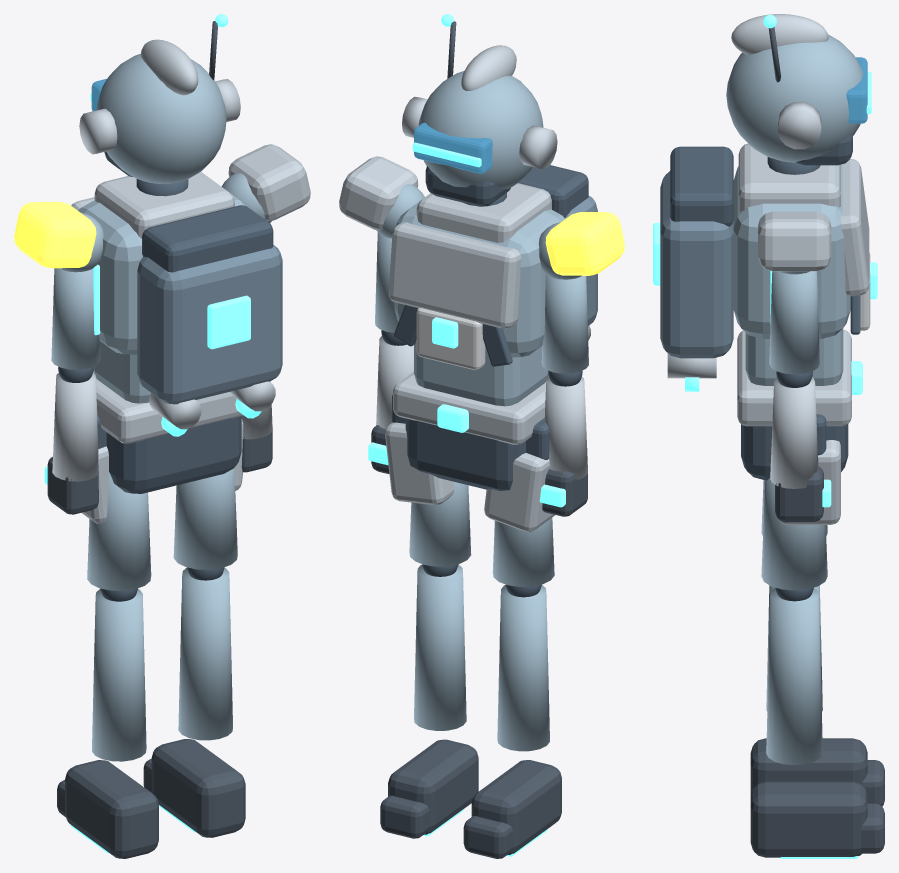
The model's file is protagonist_blender.glb.
The picture shows the model from 3 angles, left to right: view 1: azimuth 30°, elevation 25°; view 2: azimuth 150°, elevation 25°; view 3: azimuth 270°, elevation 25°; orthographic projection. The views are drawn at different scales.
Parts seen in each view (by area): view 1: Backpack, Helmet, LeftShin, RightShin, RightBoot, LeftBoot, Hips, BackpackLid, LeftLeg, RightLeg, Torso, Collar (+19 smaller); view 2: ChestPlate, Helmet, LeftShin, RightShin, Hips, LeftBoot, RightBoot, Belt, Torso, Abdomen, Collar, LeftArm (+28 smaller); view 3: Helmet, Backpack, RightShin, RightBoot, Torso, RightArm, BackpackLid, RightLeg, RightForearm, RightShoulderPad, Collar, Belt (+18 smaller).
Part boxes in pixels (x1,y1,x2,y2): Backpack: [137, 245, 282, 404]; Helmet: [96, 53, 226, 183]; LeftShin: [92, 589, 146, 761]; RightShin: [178, 568, 232, 740]; RightBoot: [151, 739, 245, 837]; LeftBoot: [65, 760, 158, 858]; Hips: [106, 416, 241, 493]; BackpackLid: [142, 205, 273, 272]; LeftLeg: [87, 471, 151, 590]; RightLeg: [173, 468, 237, 569]; Torso: [78, 194, 248, 354]; Collar: [94, 172, 234, 238]; ChestPlate: [388, 222, 521, 328]; Helmet: [418, 71, 543, 189]; LeftShin: [497, 585, 549, 751]; RightShin: [414, 564, 466, 730]; Hips: [405, 418, 525, 490]; LeftBoot: [471, 760, 561, 855]; RightBoot: [388, 739, 478, 834]; Belt: [393, 372, 548, 444]; Torso: [394, 201, 565, 357]; Abdomen: [414, 340, 548, 406]; Collar: [416, 183, 551, 242]; LeftArm: [541, 274, 588, 373]; Helmet: [726, 34, 863, 162]; Backpack: [660, 171, 733, 358]; RightShin: [766, 588, 822, 765]; RightBoot: [750, 781, 867, 857]; Torso: [733, 164, 850, 338]; RightArm: [769, 271, 819, 374]; BackpackLid: [670, 146, 733, 226]; RightLeg: [761, 478, 827, 590]; RightForearm: [770, 377, 818, 488]; RightShoulderPad: [758, 211, 831, 271]; Collar: [738, 143, 840, 211]; Belt: [737, 330, 851, 426].
Size of the model in its own units: 0.6578 by 1.89 by 0.475.
